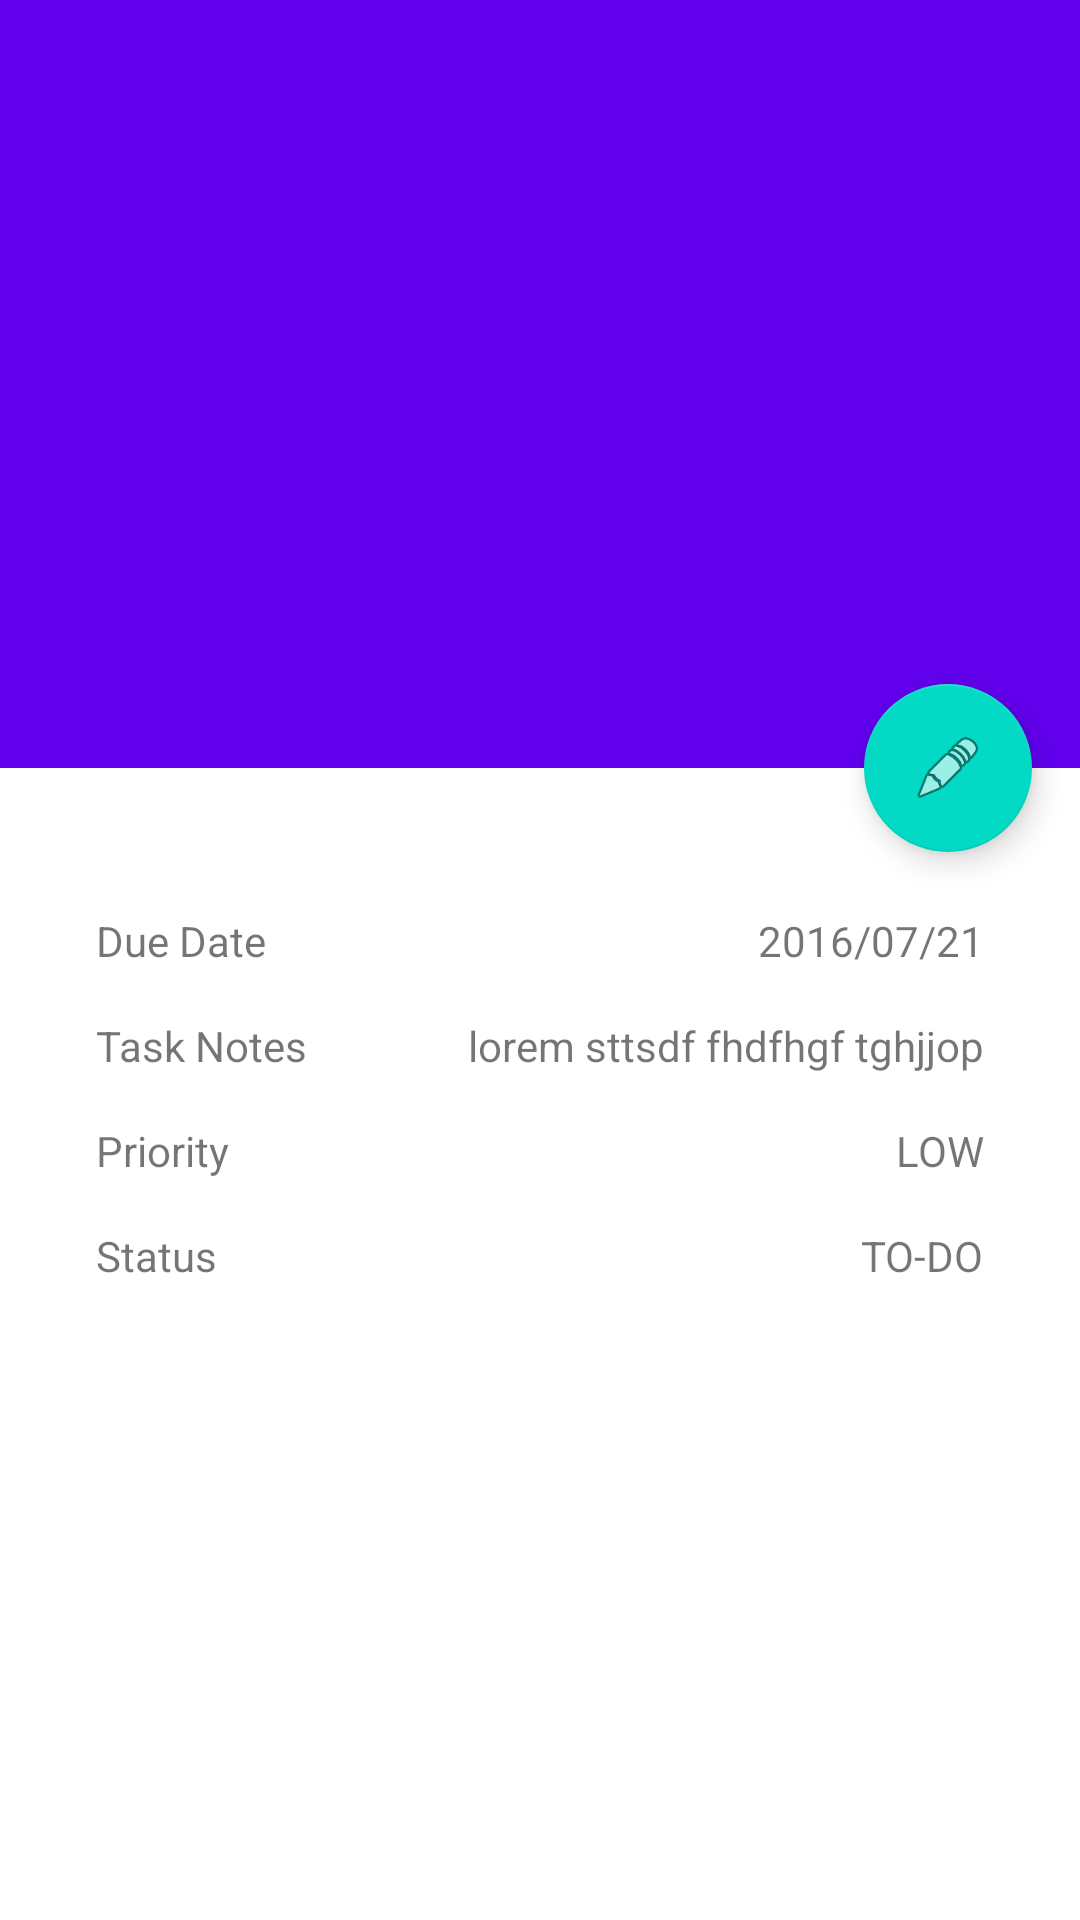

Point at icon controls on the screen. Image size 1080px x 1920px, points as (x,y).
edit: (948,768)
